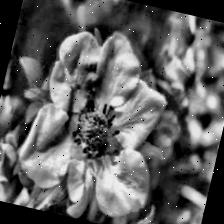Blossom Blight: (54, 83, 138, 176)
